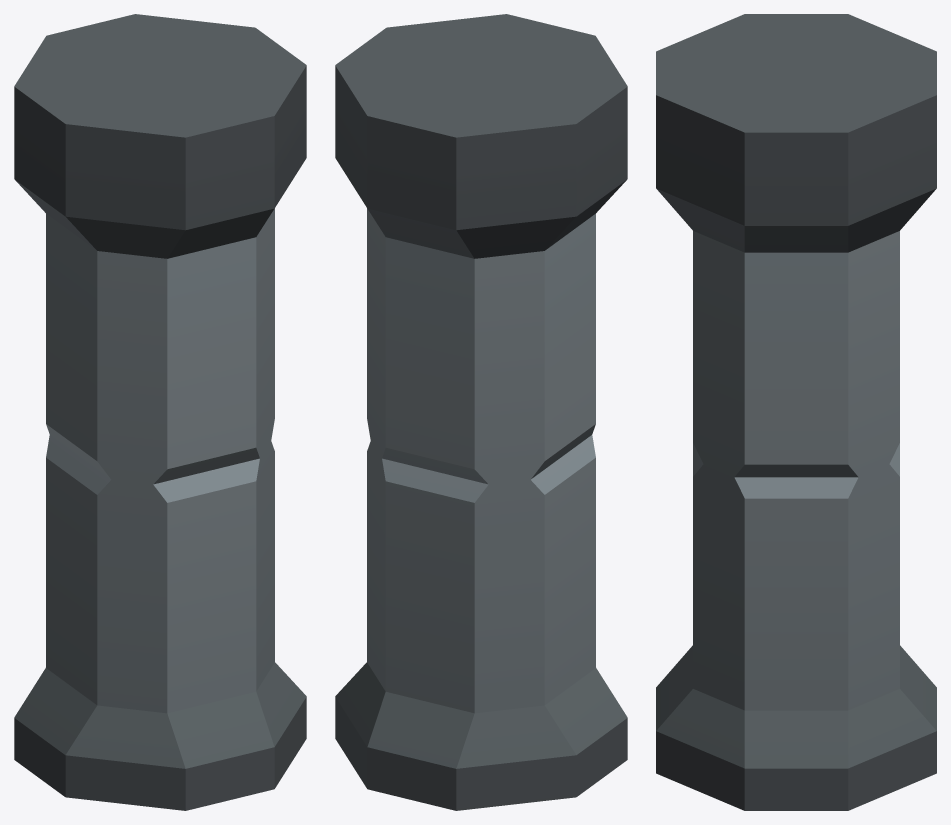
Rendered from d_kaykit_pilier.glb.
3 renders of one model, left to right at view 1: azimuth 30°, elevation 25°; view 2: azimuth 150°, elevation 25°; view 3: azimuth 270°, elevation 25°, orthographic.
Visible parts, largest first — view 1: d_kaykit_pilier; view 2: d_kaykit_pilier; view 3: d_kaykit_pilier.
Part boxes in pixels (<box>): d_kaykit_pilier: <box>14,14,306,810</box>; d_kaykit_pilier: <box>335,14,627,810</box>; d_kaykit_pilier: <box>656,14,936,810</box>.
Bounding box in the file's own units: 1.5 × 4 × 1.5.
1 material, 1 textured.
